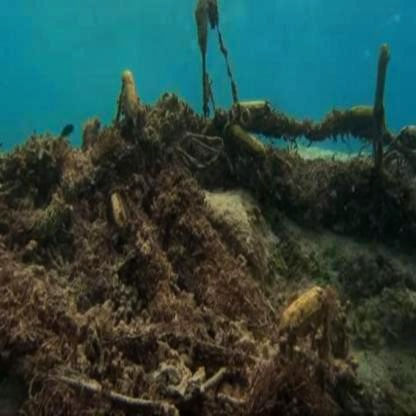net: (24, 128, 252, 387)
